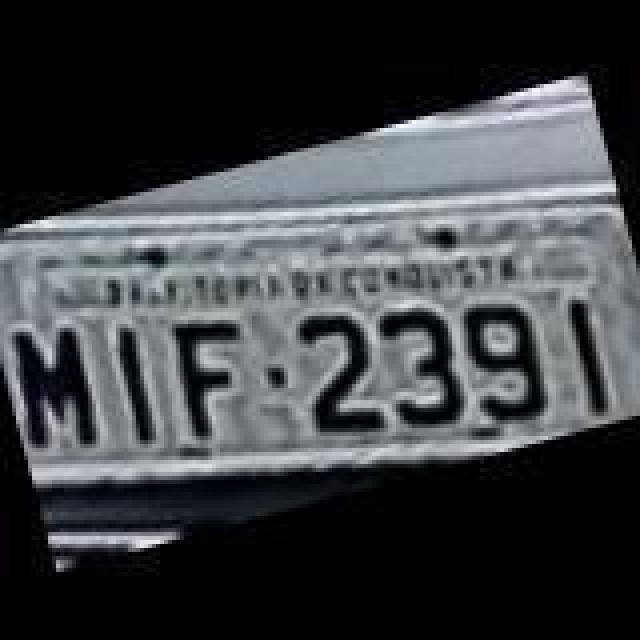1: (104, 312, 168, 448), (558, 284, 618, 420)
2: (280, 304, 392, 448)
3: (360, 292, 472, 436)
9: (448, 288, 560, 432)
F: (164, 302, 268, 450)
M: (4, 310, 108, 458)
